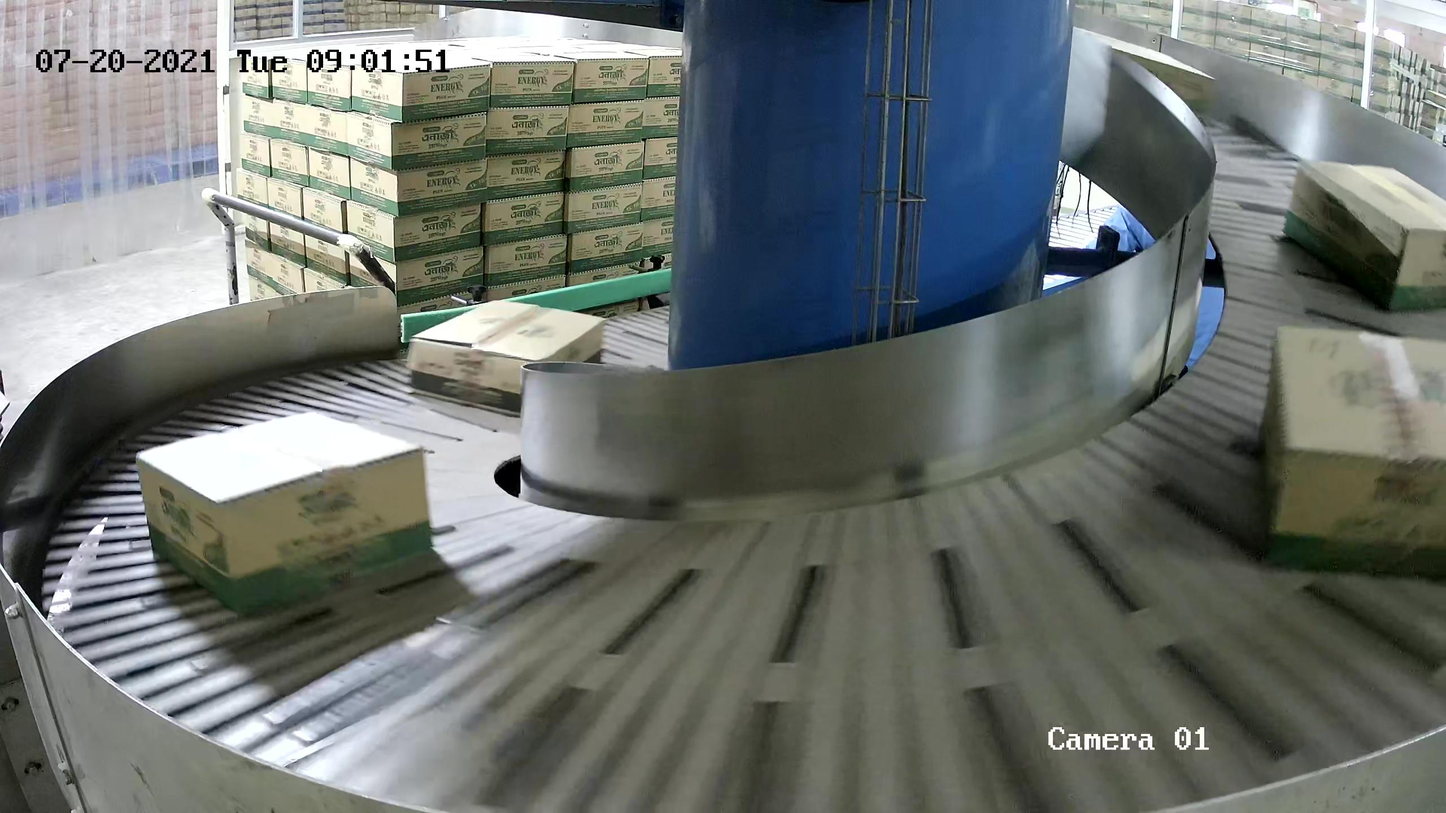Box: (135, 409, 435, 618), (1251, 323, 1446, 588), (1280, 157, 1446, 319), (409, 299, 608, 421)
